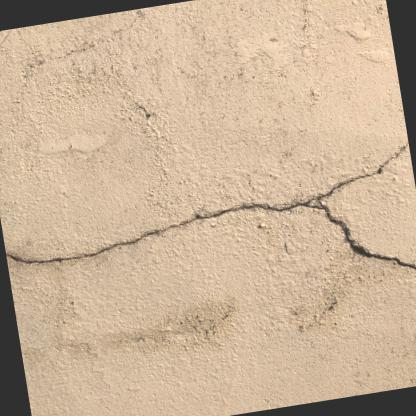crack: (5, 141, 416, 271)
